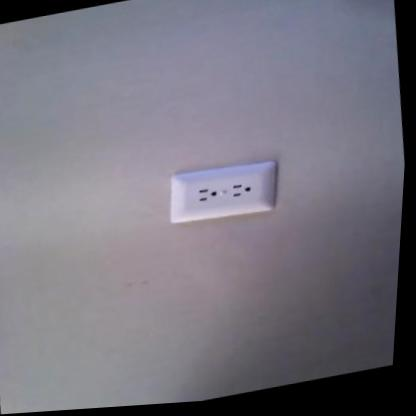OUTLET: (163, 154, 280, 230)
